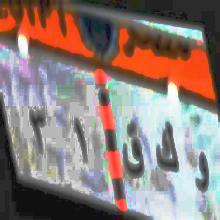1: (73, 112, 88, 165)
3: (29, 106, 47, 157)
kaaf: (154, 114, 179, 184)
qaaf: (121, 116, 145, 183)
waw: (193, 153, 210, 201)
